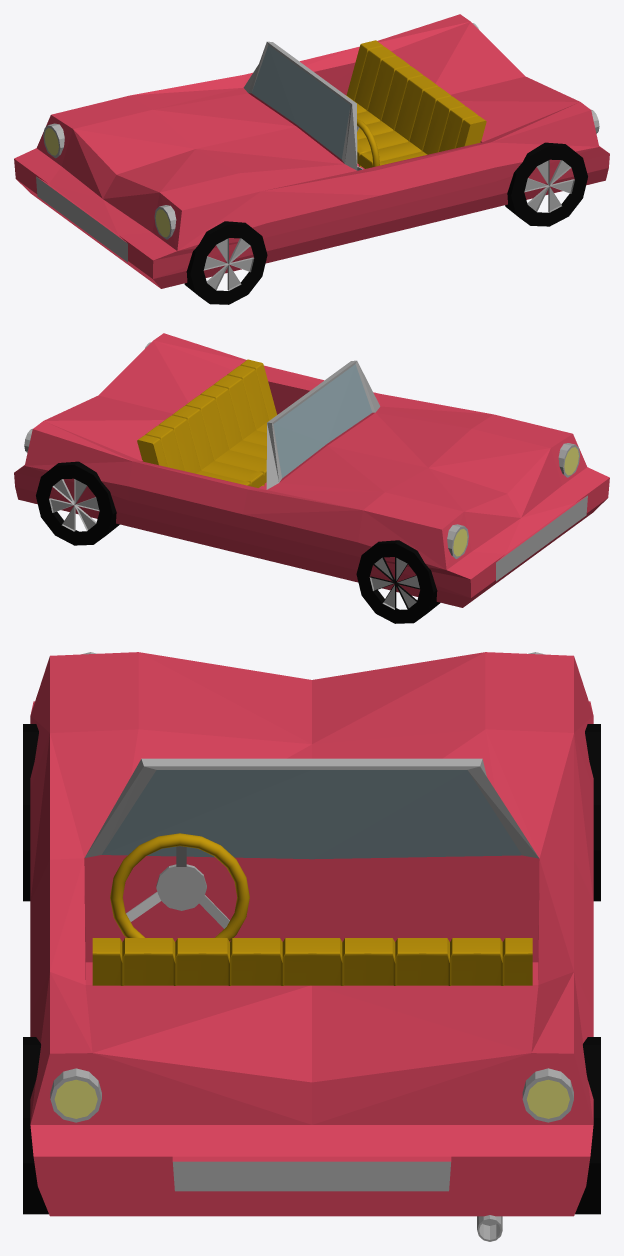
File: car3.fbx
3 renders of one model, top to bottom at view 1: azimuth 30°, elevation 25°; view 2: azimuth 150°, elevation 25°; view 3: azimuth 270°, elevation 25°, orthographic. The views are drawn at different scales.
Parts seen in each view (by area): view 1: body, seatv3, seatv2, wheel2, wheel1, light1, light, pCylinder2; view 2: body, seatv2, seatv3, wheel2, wheel1, light, light1; view 3: body, seatv2, seatv3, pCylinder2, wheel2, wheel1, light2, light3.
Part boxes in pixels (x1=…): body: x1=14, y1=14, x2=609, y2=288; seatv3: x1=357, y1=80, x2=486, y2=168; seatv2: x1=346, y1=40, x2=430, y2=146; wheel2: x1=505, y1=142, x2=587, y2=226; wheel1: x1=184, y1=221, x2=267, y2=304; light1: x1=154, y1=205, x2=176, y2=239; light: x1=43, y1=123, x2=64, y2=158; pCylinder2: x1=357, y1=119, x2=379, y2=170; body: x1=14, y1=333, x2=609, y2=607; seatv2: x1=137, y1=399, x2=266, y2=487; seatv3: x1=193, y1=359, x2=277, y2=465; wheel2: x1=36, y1=461, x2=119, y2=545; wheel1: x1=356, y1=540, x2=440, y2=623; light: x1=447, y1=524, x2=468, y2=558; light1: x1=558, y1=443, x2=579, y2=477; body: x1=30, y1=652, x2=593, y2=1216; seatv2: x1=312, y1=938, x2=532, y2=985; seatv3: x1=92, y1=938, x2=312, y2=985; pCylinder2: x1=110, y1=833, x2=249, y2=940; wheel2: x1=23, y1=1037, x2=600, y2=1214; wheel1: x1=23, y1=724, x2=600, y2=901; light2: x1=50, y1=1068, x2=101, y2=1122; light3: x1=522, y1=1068, x2=573, y2=1122.
Bounding box in the file's own units: 10.18 × 2.98 × 5.5.
